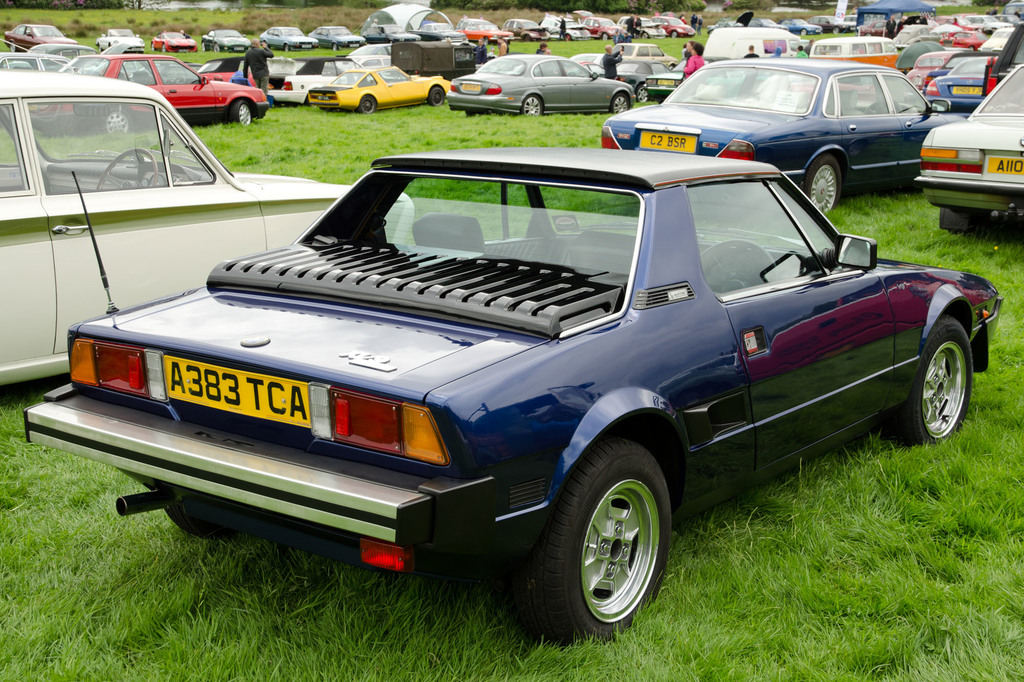Car: (24, 145, 1002, 638), (0, 72, 414, 390), (601, 56, 955, 216), (912, 62, 1023, 239), (63, 60, 266, 133), (448, 52, 630, 113), (310, 71, 444, 113), (704, 28, 807, 62), (807, 32, 900, 67), (906, 48, 967, 94), (4, 21, 74, 48), (311, 24, 365, 51), (259, 28, 318, 52), (464, 19, 512, 47), (359, 24, 417, 47), (149, 32, 197, 55), (205, 31, 251, 55), (97, 32, 142, 52), (650, 17, 697, 36)
